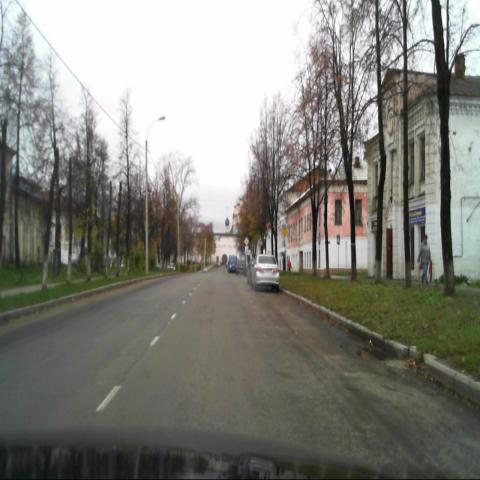2_1: (280, 224, 288, 238)
